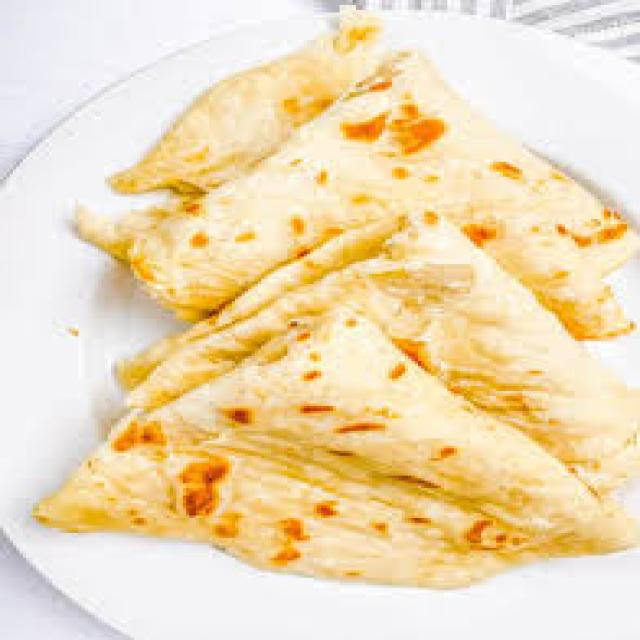ROTI: (39, 301, 630, 585), (82, 55, 627, 336), (131, 214, 633, 488)
